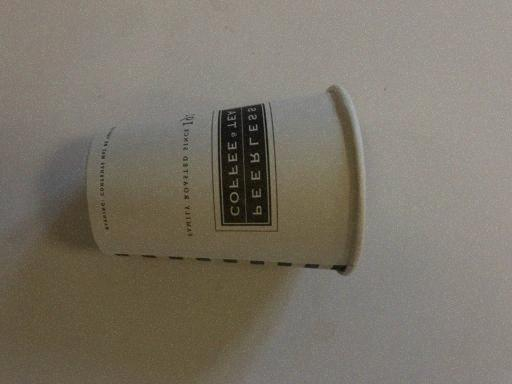cardboard: (0, 85, 365, 370)
